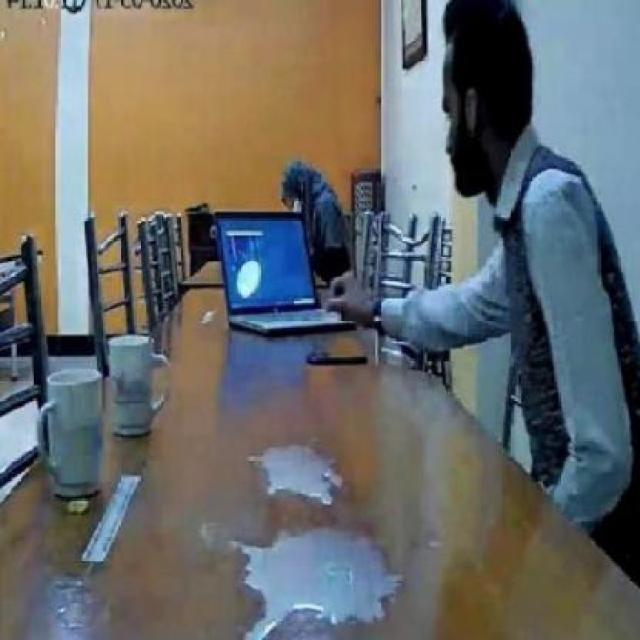spillage: (238, 528, 397, 640), (259, 445, 343, 505)
